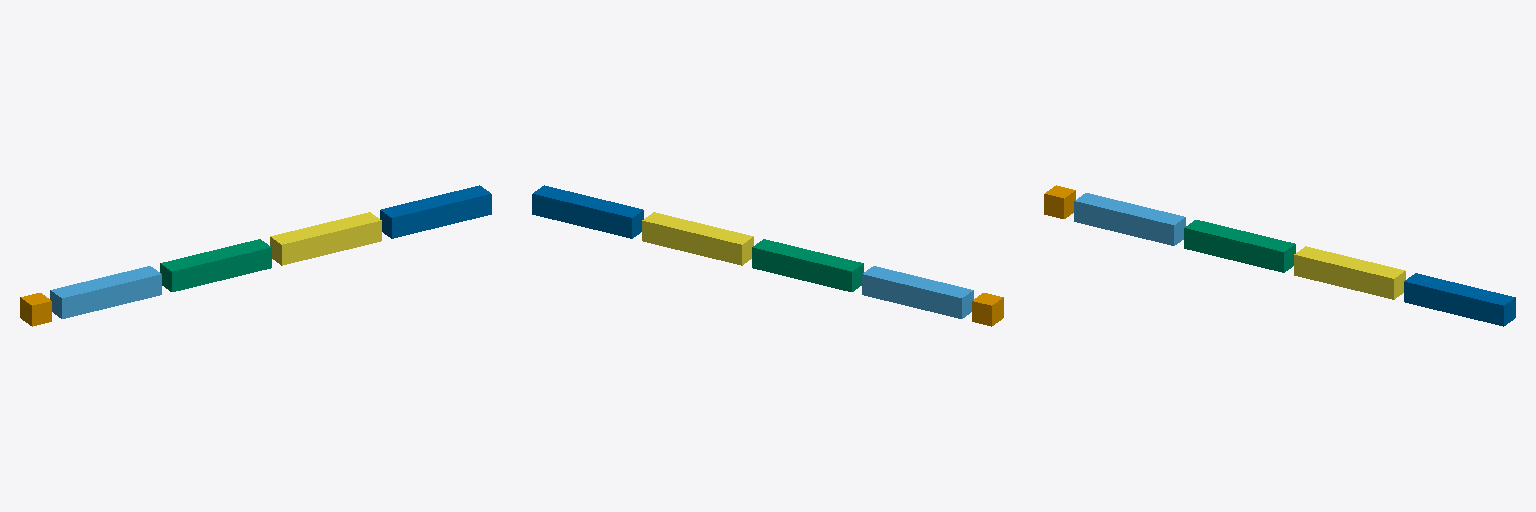
URDF robot description (simple_revolute_joints):
<?xml version="1.0"?>
<robot name="simple_revolute_joints">
  <link name="BaseLink">
    <visual>
      <origin rpy="0 0 0" xyz="0.0 0 0"/>
      <geometry>
        <box size="0.2 0.2 0.2"/>
      </geometry>
    </visual>
  </link>
  <link name="Arm:1">
    <visual>
      <origin rpy="0 0 0" xyz="0.55 0 0"/>
      <geometry>
        <box size="1.0 0.2 0.2"/>
      </geometry>
    </visual>
  </link>
  <link name="Arm:2">
    <visual>
      <origin rpy="0 0 0" xyz="0.55 0 0"/>
      <geometry>
        <box size="1.0 0.2 0.2"/>
      </geometry>
    </visual>
  </link>
  <link name="Arm:3">
    <visual>
      <origin rpy="0 0 0" xyz="0.55 0 0"/>
      <geometry>
        <box size="1.0 0.2 0.2"/>
      </geometry>
    </visual>
  </link>
  <link name="Arm:4">
    <visual>
      <origin rpy="0 0 0" xyz="0.55 0 0"/>
      <geometry>
        <box size="1.0 0.2 0.2"/>
      </geometry>
    </visual>
  </link>

  <joint name="joint_root" type="revolute">
    <origin rpy="0 0 0" xyz="0.15 0 0.0"/>
    <parent link="BaseLink"/>
    <child link="Arm:1"/>
    <axis xyz="0 1 0"/>
    <!-- If limit is omitted -->
  </joint>
  <joint name="joint_arm_1" type="revolute">
    <origin rpy="0 0 0" xyz="1.1 0 0.0"/>
    <parent link="Arm:1"/>
    <child link="Arm:2"/>
    <axis xyz="0 1 0"/>
    <!-- If lower is omitted -->
    <limit upper="0.3"/>
  </joint>
  <joint name="joint_arm_2" type="revolute">
    <origin rpy="0 0 0" xyz="1.1 0 0.0"/>
    <parent link="Arm:2"/>
    <child link="Arm:3"/>
    <axis xyz="0 1 0"/>
    <!-- If upper is omitted -->
    <limit lower="-0.3"/>
  </joint>
  <joint name="joint_arm_3" type="revolute">
    <origin rpy="0 0 0" xyz="1.1 0 0.0"/>
    <parent link="Arm:3"/>
    <child link="Arm:4"/>
    <axis xyz="0 1 0"/>
    <limit lower="-0.3" upper="0.5"/>
  </joint>

</robot>

--- Render facts (derived) ---
3 views of the same robot in one strip: view 1: azimuth 30°, elevation 25°; view 2: azimuth 150°, elevation 25°; view 3: azimuth 330°, elevation 25° (orthographic).
Robot: simple_revolute_joints — 5 links, 4 joints (4 revolute); root link BaseLink; default pose: every joint at zero.
Visible links, largest first — view 1: Arm:3, Arm:4, Arm:1, Arm:2, BaseLink; view 2: Arm:3, Arm:4, Arm:1, Arm:2, BaseLink; view 3: Arm:4, Arm:3, Arm:1, Arm:2, BaseLink.
Boxes of the visible links, <box> form: Arm:3: <box>270,212,381,265</box>; Arm:4: <box>380,185,491,238</box>; Arm:1: <box>50,266,161,318</box>; Arm:2: <box>160,239,271,291</box>; BaseLink: <box>20,293,51,326</box>; Arm:3: <box>642,212,753,265</box>; Arm:4: <box>532,185,643,238</box>; Arm:1: <box>862,266,973,318</box>; Arm:2: <box>752,239,863,291</box>; BaseLink: <box>972,293,1003,326</box>; Arm:4: <box>1404,273,1515,326</box>; Arm:3: <box>1294,246,1405,299</box>; Arm:1: <box>1074,193,1185,245</box>; Arm:2: <box>1184,220,1295,272</box>; BaseLink: <box>1044,185,1075,218</box>.
Bounding box of the posed robot: 4.6 × 0.2 × 0.2 m (x, y, z).
Geometry: primitives only (box / cylinder / sphere), no mesh files.